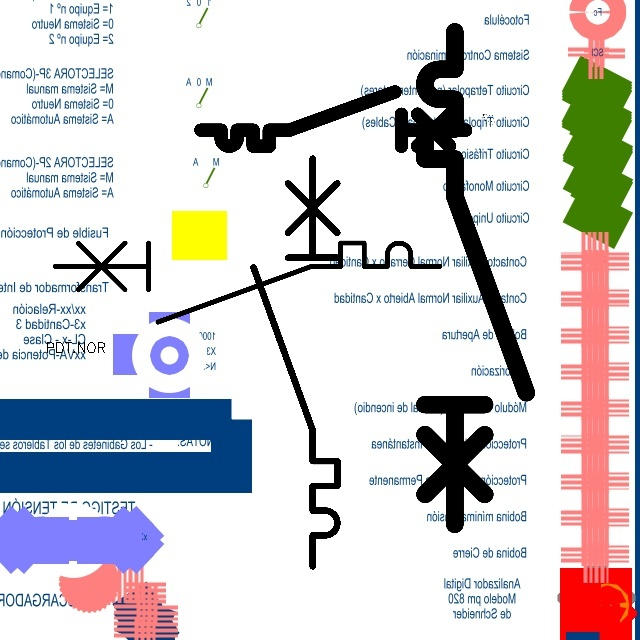interruptor_termomagnetico: (412, 19, 539, 537), (243, 148, 348, 577), (45, 233, 450, 332), (194, 85, 473, 153)
